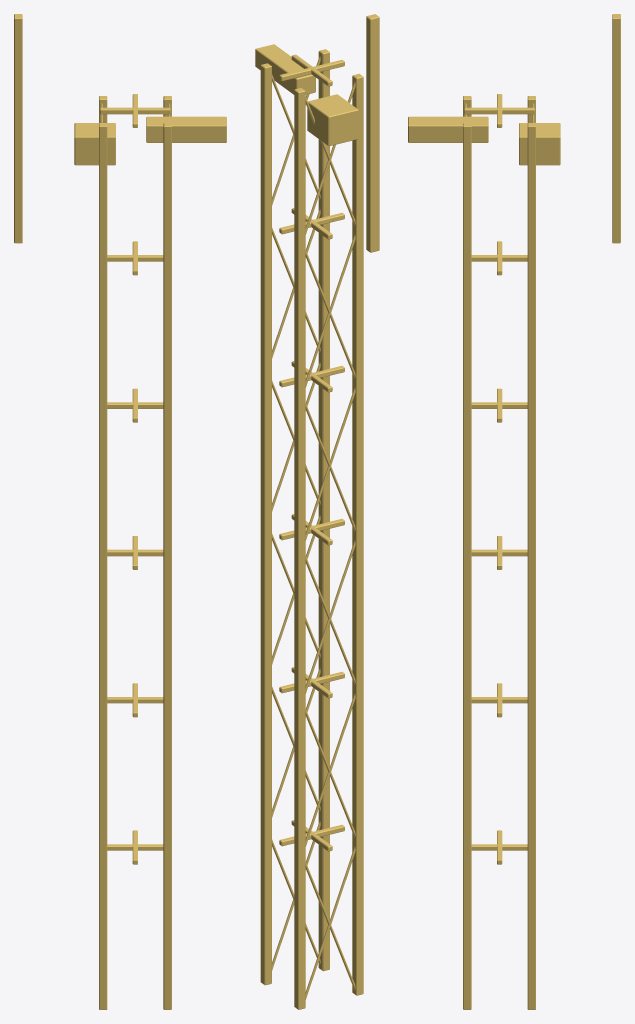
Rendered from SM_BgCrane_3x40x3.glb.
The picture shows the model from 3 angles, left to right: view 1: azimuth 90°, elevation 25°; view 2: azimuth 210°, elevation 25°; view 3: azimuth 270°, elevation 25°; orthographic projection. The views are drawn at different scales.
Visible parts, largest first — view 1: SM_BgCrane_3x40x3; view 2: SM_BgCrane_3x40x3; view 3: SM_BgCrane_3x40x3.
Part boxes in pixels (left/top/right/bottom): SM_BgCrane_3x40x3: left=14, top=14, right=226, bottom=1009; SM_BgCrane_3x40x3: left=255, top=14, right=379, bottom=1009; SM_BgCrane_3x40x3: left=408, top=14, right=620, bottom=1009.
Bounding box in the file's own units: 3 × 44.31 × 8.73.
